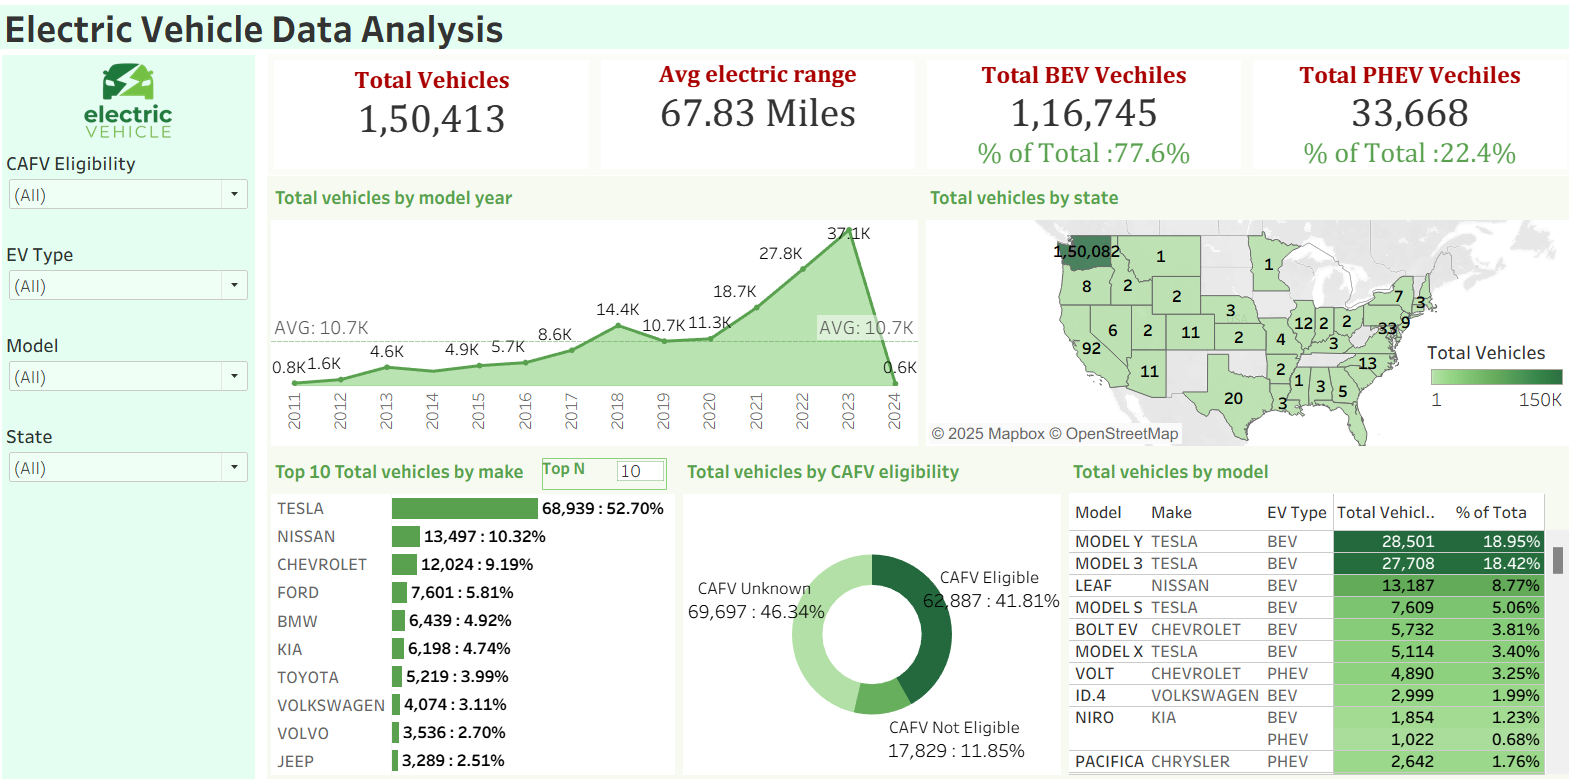

The page's visual inventory and layout, read from the dashboard file:
{"tool":"tableau","page":{"name":"Dashboard 1","canvas":[1600,800],"ordinal":0},"visuals":[{"type":"title","box":[8,8,1584,52]},{"type":"worksheet","title":"Total vehicles","mark":"Automatic","box":[280,61,327,121]},{"type":"worksheet","title":"Avg electric range","mark":"Automatic","box":[607,61,326,121]},{"type":"worksheet","title":"Total BEV vehicles","mark":"Automatic","box":[933,61,326,121]},{"type":"worksheet","title":"Total PHEV vehicles","mark":"Automatic","box":[1259,61,326,121]},{"type":"image","param":"C:/Users/vshivani/Desktop/shivani/Tableau/electric vehicle/EVlogo.png","box":[14,62,253,91]},{"type":"filter","title":"Total vehicles by model year","param":"[federated.1dpi7z00bbtyku1co9ruc01wex1t].[none:Clean Alternative Fuel Vehicle (C","box":[14,153,253,91]},{"type":"worksheet","title":"Total vehicles by model year","mark":"Area","rows":["Calculation_1347139296892690432","Calculation_1347139296892690432"],"cols":["Model Year"],"box":[279,183,655,274]},{"type":"worksheet","title":"Total vehicles by state","mark":"Multipolygon","box":[934,183,652,274]},{"type":"filter","title":"Total vehicles by model year","param":"[federated.1dpi7z00bbtyku1co9ruc01wex1t].[none:Electric Vehicle Type:nk]","box":[14,244,253,91]},{"type":"filter","title":"Total vehicles by model year","param":"[federated.1dpi7z00bbtyku1co9ruc01wex1t].[none:Model:nk]","box":[14,335,253,91]},{"type":"legend","title":"Total vehicles by state","param":"[federated.1dpi7z00bbtyku1co9ruc01wex1t].[usr:Calculation_1347139296892690432:qk","box":[1439,346,140,100]},{"type":"filter","title":"Total vehicles by model year","param":"[federated.1dpi7z00bbtyku1co9ruc01wex1t].[none:State:nk]","box":[14,426,253,90]},{"type":"worksheet","title":"Top 10 Total vehicles by Make","mark":"Automatic","rows":["Make"],"cols":["Calculation_1347139296892690432"],"box":[279,457,412,329]},{"type":"worksheet","title":"Total vehicles by CAFV eligibility","mark":"Pie","rows":["Calculation_1545860630679957510","Calculation_1545860630679957510"],"box":[691,457,386,329]},{"type":"worksheet","title":"Total vehicles by model","mark":"Square","rows":["Model","Make","Electric Vehicle Type"],"box":[1077,457,509,329]},{"type":"parameter","param":"[Parameters].[Parameter 1]","box":[554,465,125,32]},{"type":"blank","box":[14,516,253,90]},{"type":"blank","box":[14,606,253,90]},{"type":"blank","box":[14,696,253,90]}]}

Visuals, with their boxes in screenshot pixels (x1, y1, x2, y2), scaled from the page's 1600x800 canvas onto the 1569x780 screenshot:
title: region(8, 8, 1561, 58)
"Total vehicles" worksheet: region(275, 59, 595, 177)
"Avg electric range" worksheet: region(595, 59, 915, 177)
"Total BEV vehicles" worksheet: region(915, 59, 1235, 177)
"Total PHEV vehicles" worksheet: region(1235, 59, 1554, 177)
image: region(14, 60, 262, 149)
"Total vehicles by model year" filter: region(14, 149, 262, 238)
"Total vehicles by model year" worksheet (Area marks): region(274, 178, 916, 446)
"Total vehicles by state" worksheet (Multipolygon marks): region(916, 178, 1555, 446)
"Total vehicles by model year" filter: region(14, 238, 262, 327)
"Total vehicles by model year" filter: region(14, 327, 262, 415)
"Total vehicles by state" legend: region(1411, 337, 1548, 435)
"Total vehicles by model year" filter: region(14, 415, 262, 503)
"Top 10 Total vehicles by Make" worksheet: region(274, 446, 678, 766)
"Total vehicles by CAFV eligibility" worksheet (Pie marks): region(678, 446, 1056, 766)
"Total vehicles by model" worksheet (Square marks): region(1056, 446, 1555, 766)
parameter: region(543, 453, 666, 485)
blank: region(14, 503, 262, 591)
blank: region(14, 591, 262, 679)
blank: region(14, 679, 262, 766)
